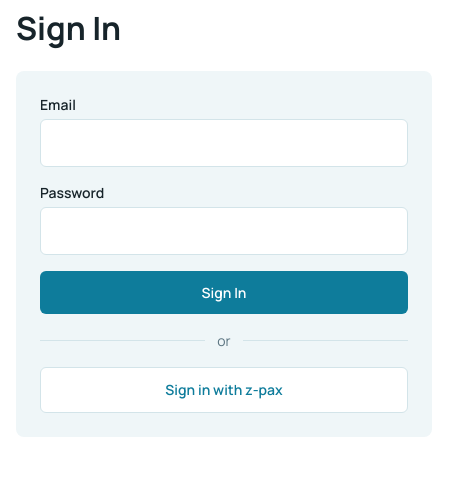
Test: Login › shows the invalid-credentials message on a 401
Step 1. Type "john@example.com" into the field labelled "Email" → x=224, y=143, box [40,119,408,167]
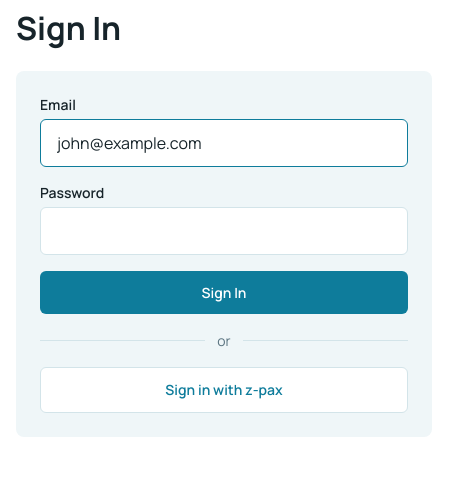
Step 2. Type "correct-horse-battery-staple" into the password field labelled "Password" → x=224, y=231, box [40,207,408,255]
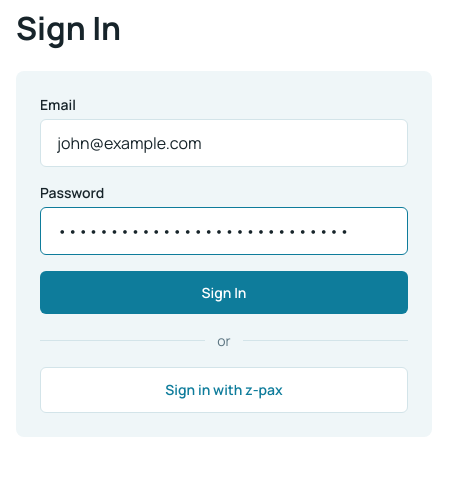
Step 3. Click the button "Sign In" → x=224, y=292, box [40,271,408,314]
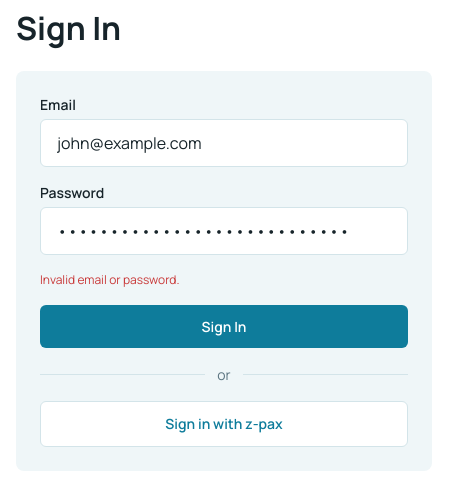
Now the text "Invalid email or password." is shown, box [40,271,180,288]
